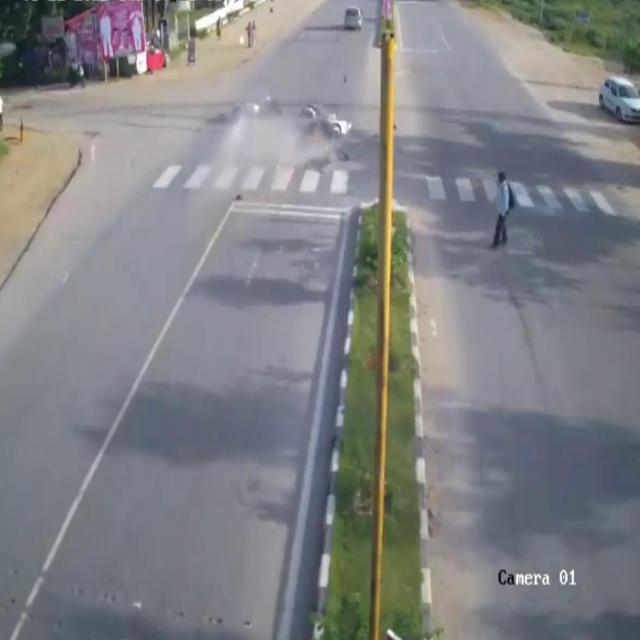accident: (222, 80, 353, 160)
